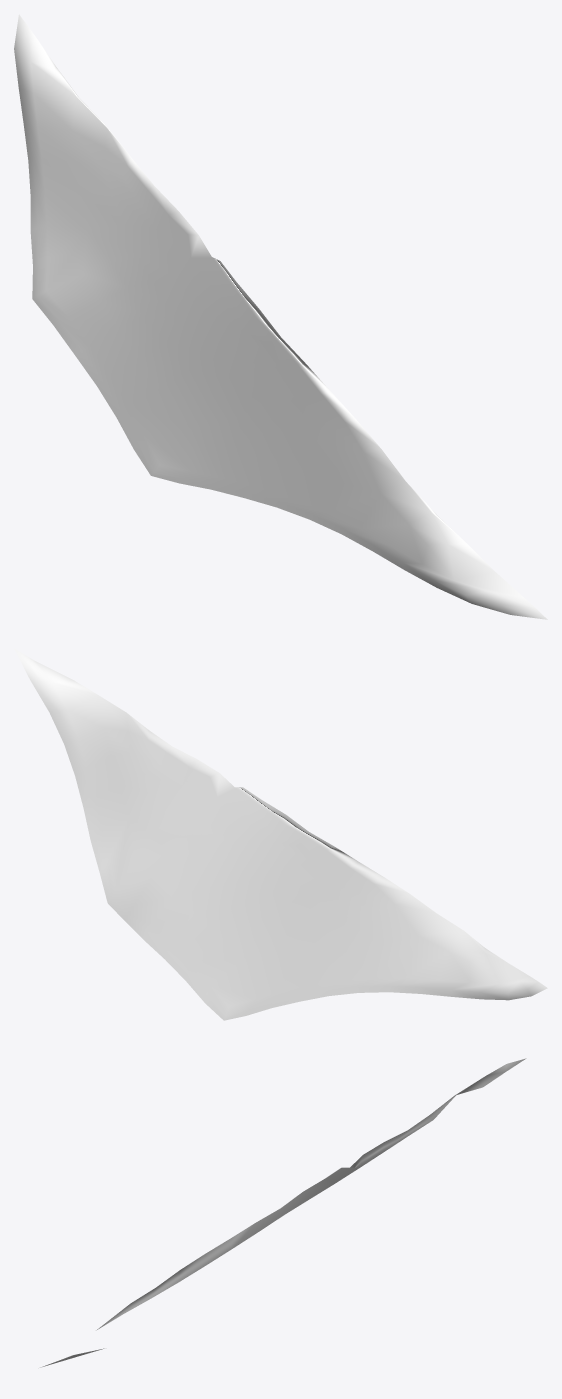
File: Pants_Decor_Pocket_Left_V2.glb
3 renders of one model, top to bottom at view 1: azimuth 90°, elevation 25°; view 2: azimuth 150°, elevation 25°; view 3: azimuth 270°, elevation 25°, orthographic.
Visible parts, largest first — view 1: Pants_Decor_Pocket_Left.003; view 2: Pants_Decor_Pocket_Left.003; view 3: Pants_Decor_Pocket_Left.003.
Part boxes in pixels (x1,y1,x2,y2): Pants_Decor_Pocket_Left.003: (14, 14, 547, 619); Pants_Decor_Pocket_Left.003: (14, 648, 547, 1020); Pants_Decor_Pocket_Left.003: (40, 1058, 526, 1367).
Bounding box in the file's own units: 0.055 × 0.0881 × 0.0906.
1 material, 1 textured.
